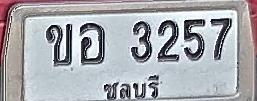2: (157, 19, 179, 62)
3: (131, 20, 152, 62)
5: (184, 18, 205, 61)
7: (210, 17, 232, 60)
A02: (45, 24, 72, 66)
A43: (79, 22, 105, 64)
CBI: (99, 74, 163, 101)
